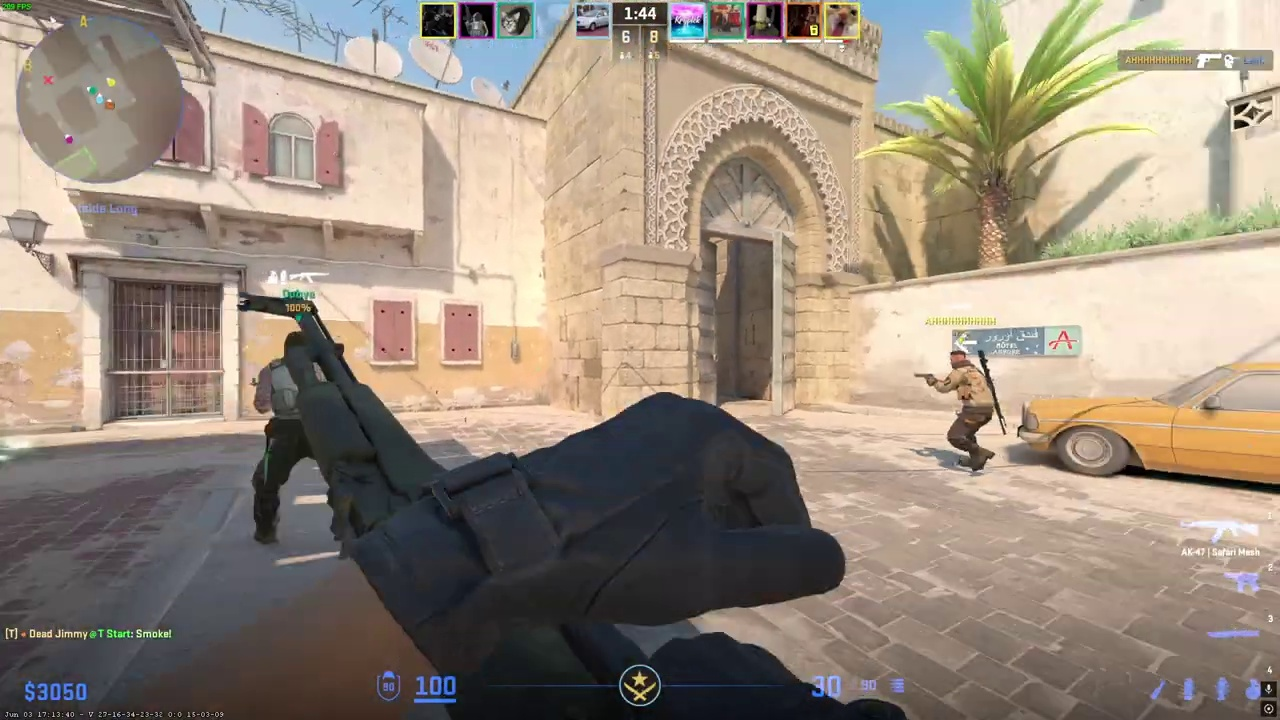Terrorist: (252, 331, 329, 545), (938, 351, 995, 471)
